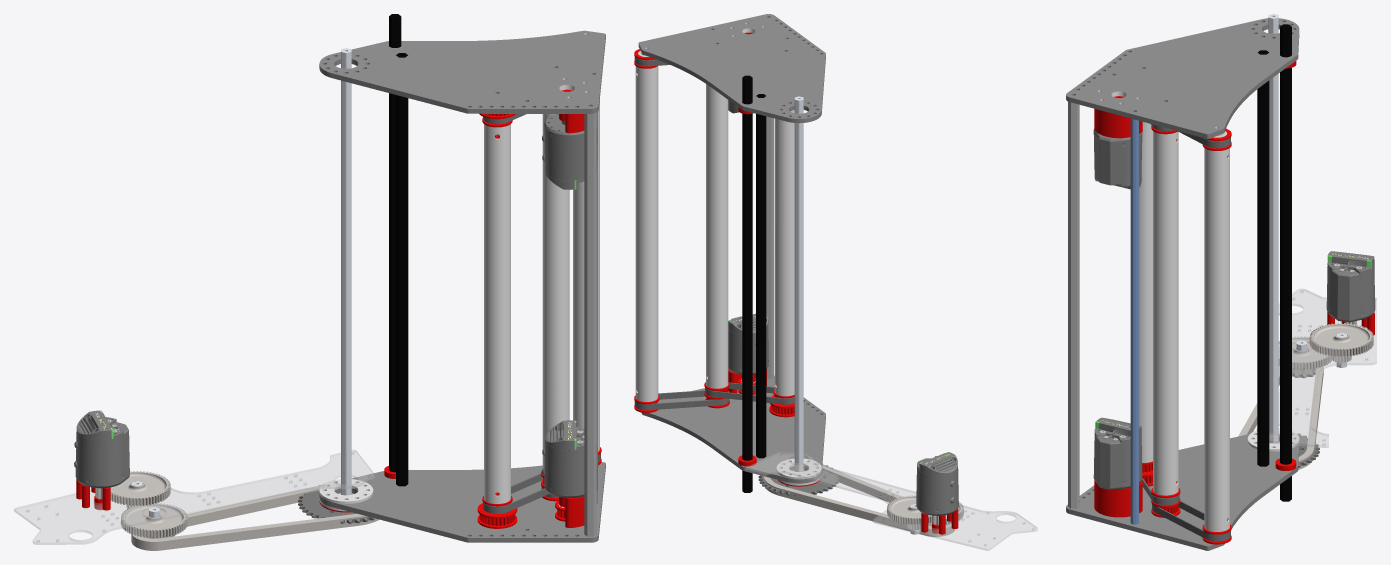
3 views of the same model, side by side, from view 1: azimuth 30°, elevation 25°; view 2: azimuth 150°, elevation 25°; view 3: azimuth 270°, elevation 25° (orthographic). The views are drawn at different scales.
Parts seen in each view (by area): view 1: Right Polycarb plate.001, Right Polycarb plate, top roller polycarb, Outer Spaced Bearing Plate.001, Middle Roller Polycarb, 1/2" Hex (21.75 in).001, 1/2" Hex (22.25 in), WCP-CC2026-04-003, WCP-CC2026-04-012, Kraken X60 lowpoly (indexer), Bottom roller Polycarb, Combine1[1]_1 (+7 smaller); view 2: Right Polycarb plate.001, Bottom roller Polycarb, Right Polycarb plate, Middle Roller Polycarb, Outer Spaced Bearing Plate.001, top roller polycarb, 1/2" Hex (24.75 in), 1/2" Hex (22.25 in), WCP-CC2026-04-003, Kraken X60 lowpoly (indexer), WCP-CC2026-04-012, 1/2" Hex (21.75 in).001 (+6 smaller); view 3: Right Polycarb plate.001, Bottom roller Polycarb, Middle Roller Polycarb, Right Polycarb plate, 1/2" Hex (24.75 in), 1/2" Hex (22.25 in), Outer Spaced Bearing Plate.001, 1/2" Hex (21.75 in).001, top roller polycarb, WCP-CC2026-04-003, 3/8" ThunderHex (21.75 in).001, Kraken X60 lowpoly (indexer) (+7 smaller).
Part boxes in pixels (box(x1,y1,x2,y2)): Right Polycarb plate.001: box(319, 30, 605, 113); Right Polycarb plate: box(319, 462, 605, 542); top roller polycarb: box(484, 124, 510, 503); Outer Spaced Bearing Plate.001: box(14, 450, 374, 544); Middle Roller Polycarb: box(542, 114, 569, 468); 1/2" Hex (21.75 in).001: box(584, 113, 596, 536); 1/2" Hex (22.25 in): box(396, 53, 408, 486); WCP-CC2026-04-003: box(341, 48, 351, 495); WCP-CC2026-04-012: box(131, 485, 379, 550); Kraken X60 lowpoly (indexer): box(74, 410, 129, 488); Bottom roller Polycarb: box(573, 99, 599, 451); Combine1[1]_1: box(110, 471, 187, 538); Right Polycarb plate.001: box(638, 14, 825, 123); Bottom roller Polycarb: box(635, 66, 658, 401); Right Polycarb plate: box(641, 375, 825, 483); Middle Roller Polycarb: box(706, 84, 728, 388); Outer Spaced Bearing Plate.001: box(744, 452, 1037, 550); top roller polycarb: box(774, 110, 794, 396); 1/2" Hex (24.75 in): box(742, 75, 752, 492); 1/2" Hex (22.25 in): box(756, 94, 766, 458); WCP-CC2026-04-003: box(794, 96, 803, 471); Kraken X60 lowpoly (indexer): box(916, 452, 958, 515); WCP-CC2026-04-012: box(763, 465, 954, 536); 1/2" Hex (21.75 in).001: box(766, 116, 773, 379); Right Polycarb plate.001: box(1066, 18, 1299, 138); Bottom roller Polycarb: box(1204, 148, 1229, 531); Middle Roller Polycarb: box(1153, 131, 1178, 495); Right Polycarb plate: box(1066, 434, 1299, 550); 1/2" Hex (24.75 in): box(1280, 24, 1291, 501); 1/2" Hex (22.25 in): box(1257, 50, 1269, 466); Outer Spaced Bearing Plate.001: box(1269, 289, 1376, 447); 1/2" Hex (21.75 in).001: box(1068, 101, 1079, 508); top roller polycarb: box(1139, 122, 1152, 462); WCP-CC2026-04-003: box(1268, 14, 1278, 443); 3/8" ThunderHex (21.75 in).001: box(1130, 118, 1138, 524); Kraken X60 lowpoly (indexer): box(1326, 251, 1375, 322).
Bounding box in the file's own units: 0.713 × 0.6414 × 0.382.
